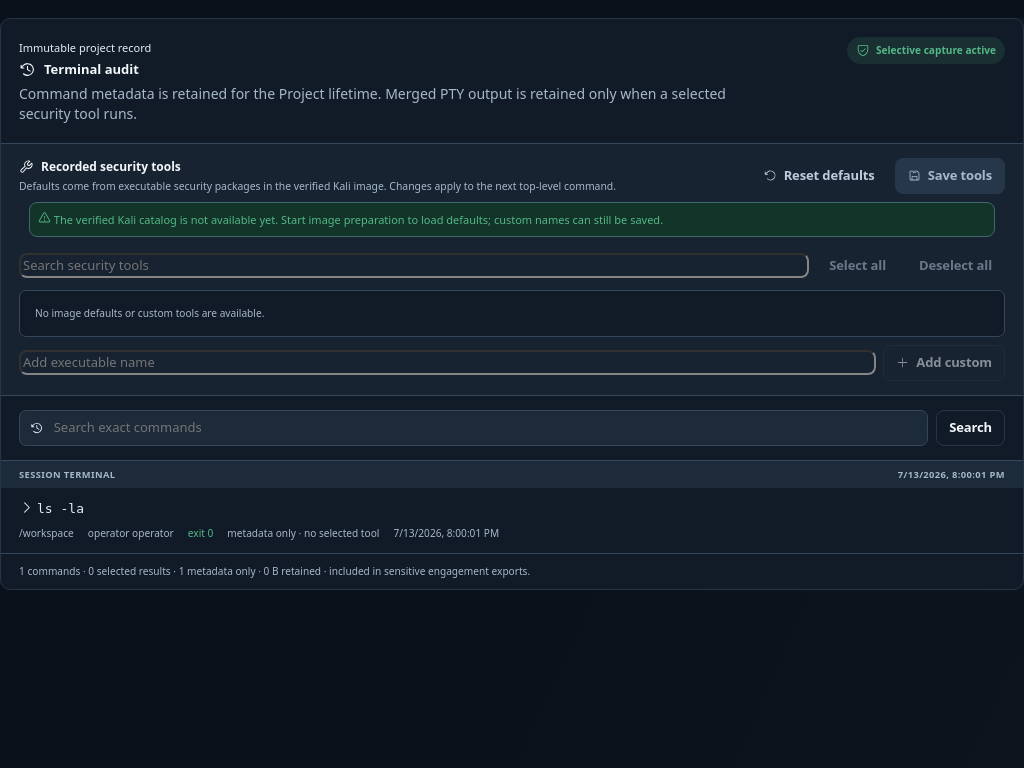
TerminalCommandHistoryPanel › saves custom names without an image catalog and keeps metadata-only output actions unavailable
Expected: the text "verified Kali catalog is not available" is shown, left=51, top=212, right=663, bottom=227
Type "session-scanner" into the field named "Custom executable name".
click(448, 363); type("session-scanner")  # box left=19, top=350, right=876, bottom=375
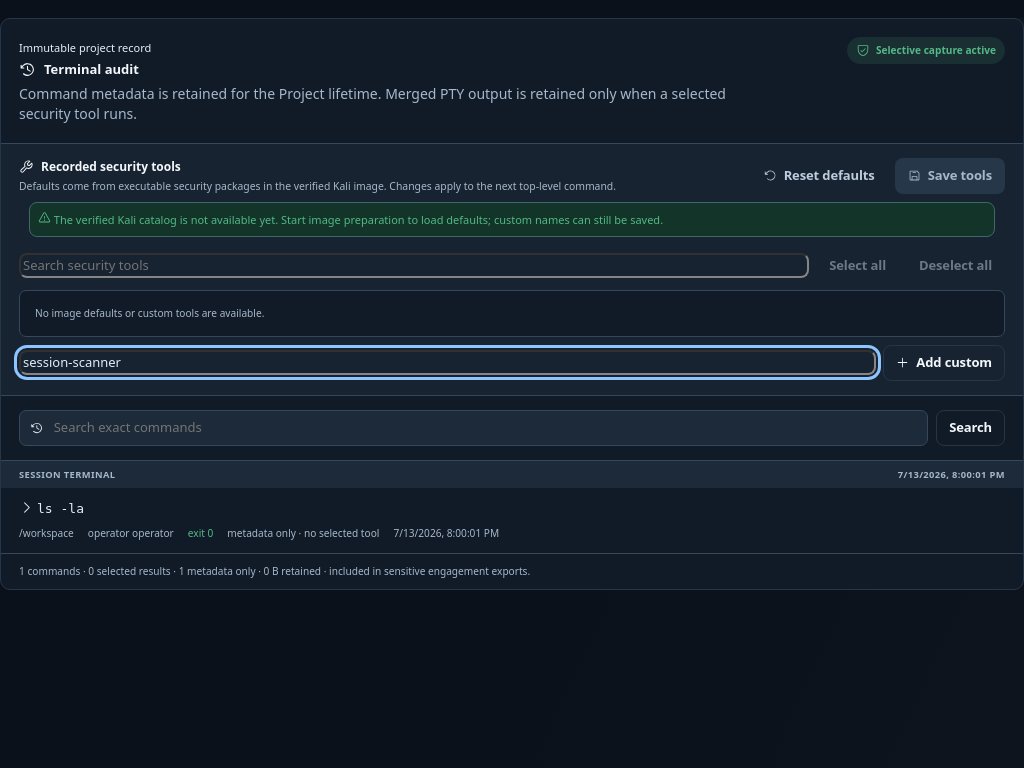
Click the button "Add custom".
click(944, 363)  # box left=883, top=345, right=1005, bottom=381
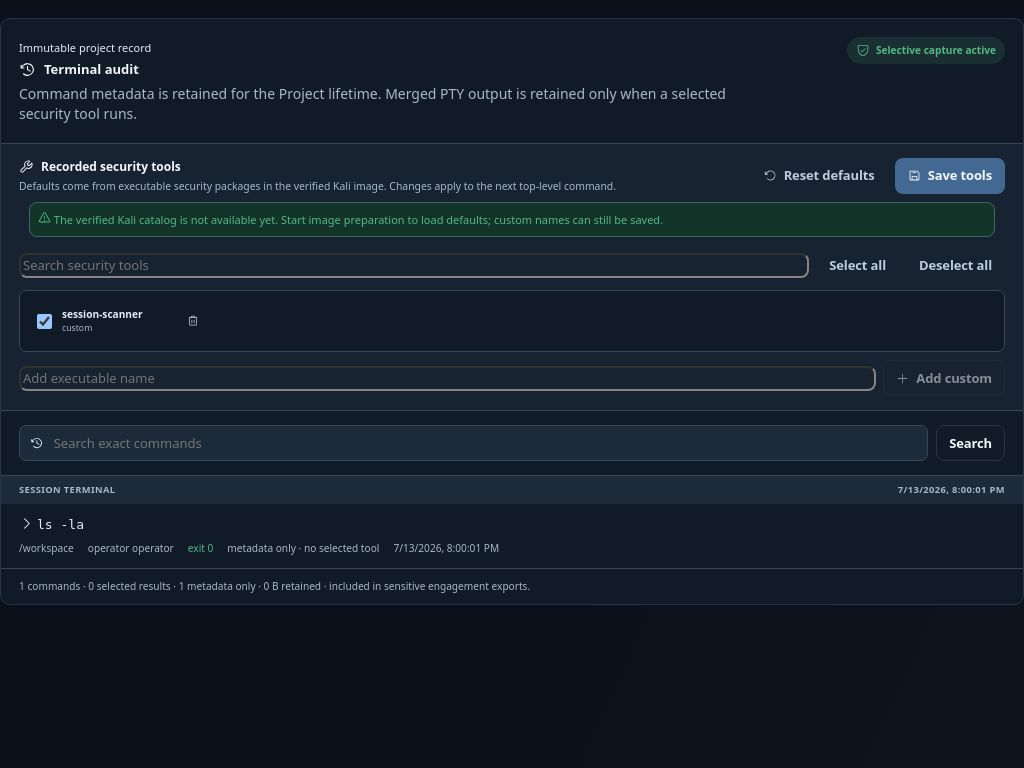
Result: the checkbox labelled "session-scanner custom" is checked at left=37, top=314, right=52, bottom=329
Click the button "Save tools".
click(950, 176)  # box left=895, top=158, right=1005, bottom=194
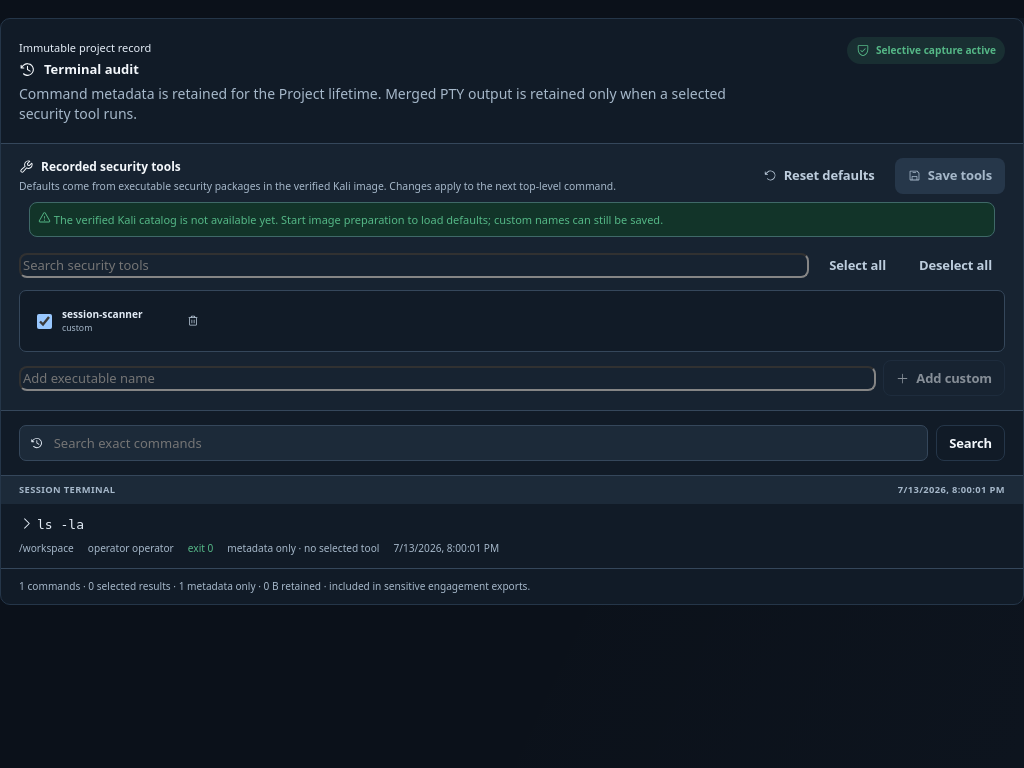
Click the button "ls -la".
click(60, 524)  # box left=19, top=516, right=1005, bottom=534
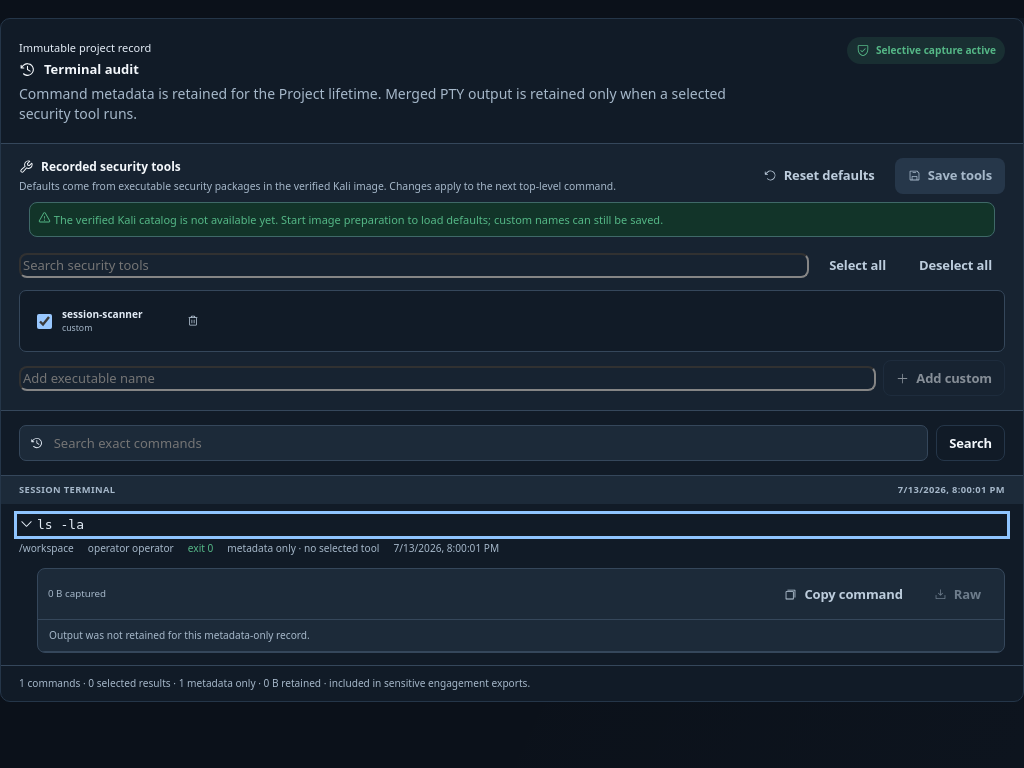
Result: the text "Output was not retained for this metadata-only record." is shown at left=38, top=620, right=1004, bottom=652
Result: the button "Raw" is disabled at left=921, top=576, right=994, bottom=612
